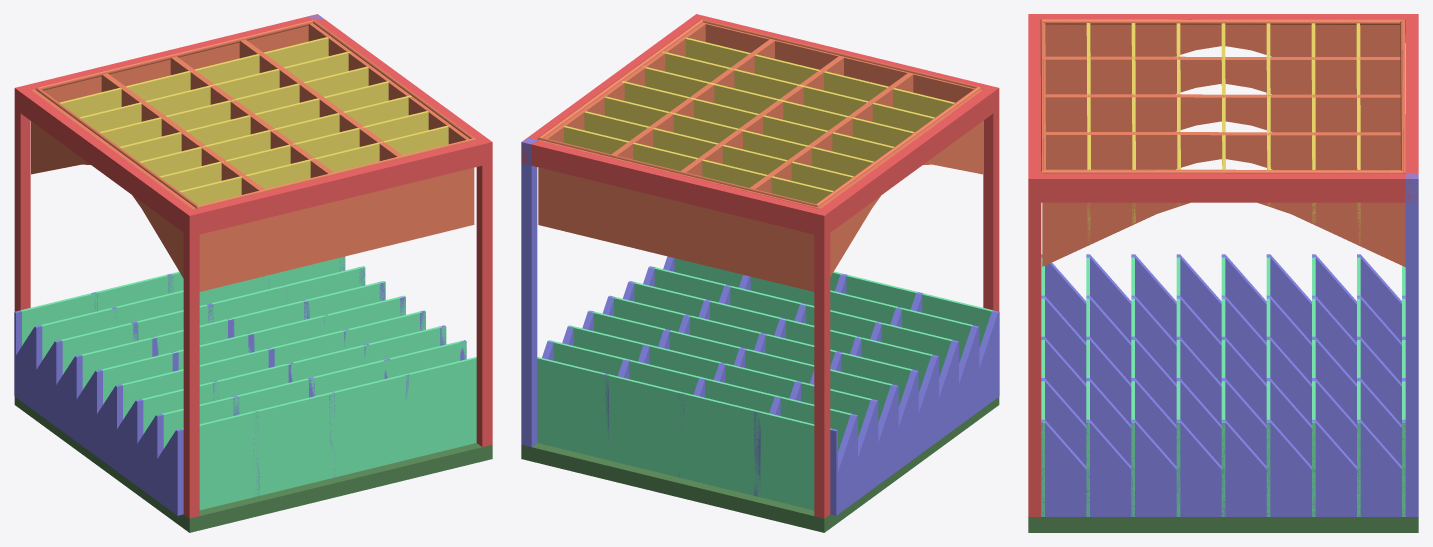
3 renders of one model, left to right at view 1: azimuth 30°, elevation 25°; view 2: azimuth 150°, elevation 25°; view 3: azimuth 270°, elevation 25°, orthographic. The views are drawn at different scales.
Parts seen in each view (by area): view 1: 物件_19, 物件_38, 物件_47, 物件_40, 物件_15, 物件_6, 物件_4, 物件_17, 物件_18, 物件_16, 物件_2, 物件_3 (+27 smaller); view 2: 物件_1, 物件_20, 物件_46, 物件_40, 物件_6, 物件_15, 物件_45, 物件_3, 物件_5, 物件_4, 物件_17, 物件_16 (+32 smaller); view 3: 物件_10, 物件_11, 物件_48, 物件_7, 物件_8, 物件_9, 物件_13, 物件_14, 物件_12, 物件_6, 物件_15, 物件_40 (+34 smaller).
Boxes of the visible parts, box(x1,y1,x2,y2) form: 物件_19: box(182, 357, 476, 510); 物件_38: box(199, 168, 474, 291); 物件_47: box(183, 138, 492, 236); 物件_40: box(14, 397, 492, 532); 物件_15: box(95, 371, 183, 515); 物件_6: box(14, 310, 102, 456); 物件_4: box(61, 266, 365, 374); 物件_17: box(142, 325, 446, 433); 物件_18: box(162, 340, 466, 448); 物件_16: box(122, 310, 425, 419); 物件_2: box(101, 295, 405, 404); 物件_3: box(81, 281, 385, 389); 物件_1: box(537, 357, 831, 510); 物件_20: box(538, 140, 815, 291); 物件_46: box(521, 138, 830, 236); 物件_40: box(521, 397, 999, 532); 物件_6: box(830, 369, 918, 515); 物件_15: box(917, 310, 999, 454); 物件_45: box(814, 86, 999, 236); 物件_3: box(588, 310, 891, 422); 物件_5: box(548, 340, 851, 451); 物件_4: box(568, 325, 871, 437); 物件_17: box(649, 266, 952, 377); 物件_16: box(629, 281, 932, 392); 物件_10: box(1221, 419, 1405, 516); 物件_11: box(1041, 419, 1224, 516); 物件_48: box(1028, 173, 1418, 202); 物件_7: box(1221, 295, 1405, 383); 物件_8: box(1221, 336, 1405, 424); 物件_9: box(1221, 378, 1405, 465); 物件_13: box(1041, 336, 1221, 424); 物件_14: box(1041, 295, 1221, 383); 物件_12: box(1041, 378, 1221, 465); 物件_6: box(1221, 254, 1401, 342); 物件_15: box(1041, 254, 1221, 342); 物件_40: box(1028, 517, 1418, 532).
Size of the model in its own units: 48.96 by 48.32 by 48.
